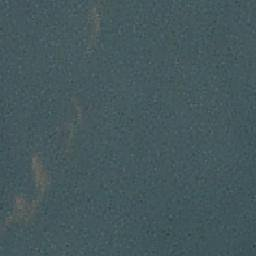debris: (12, 201, 35, 221), (33, 157, 46, 187), (90, 11, 100, 40), (73, 103, 81, 127)
